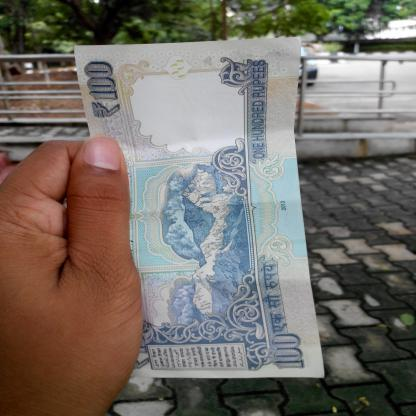Old100Back: (73, 37, 324, 380)
